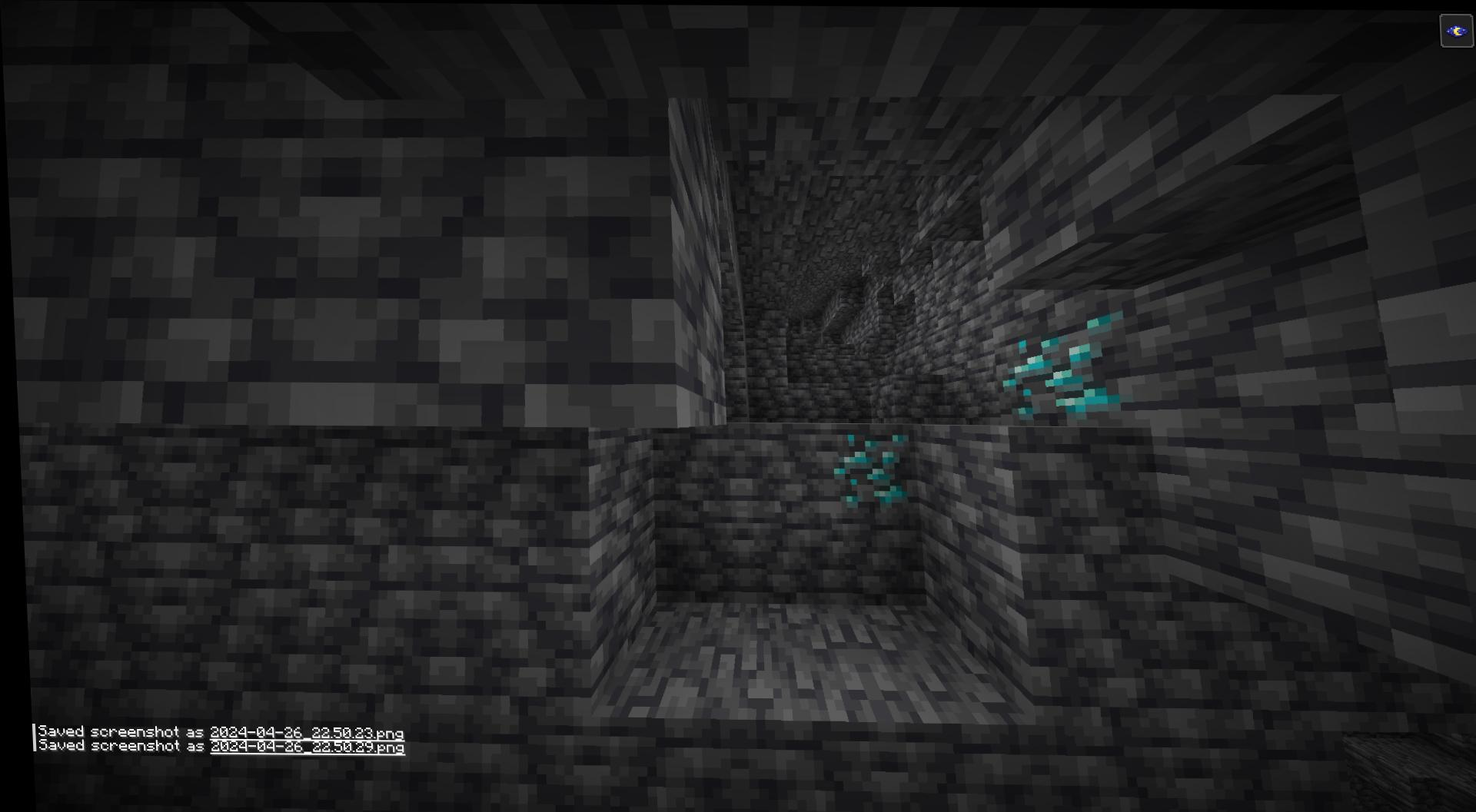diamond ore: (993, 317, 1123, 430), (823, 426, 907, 508)
